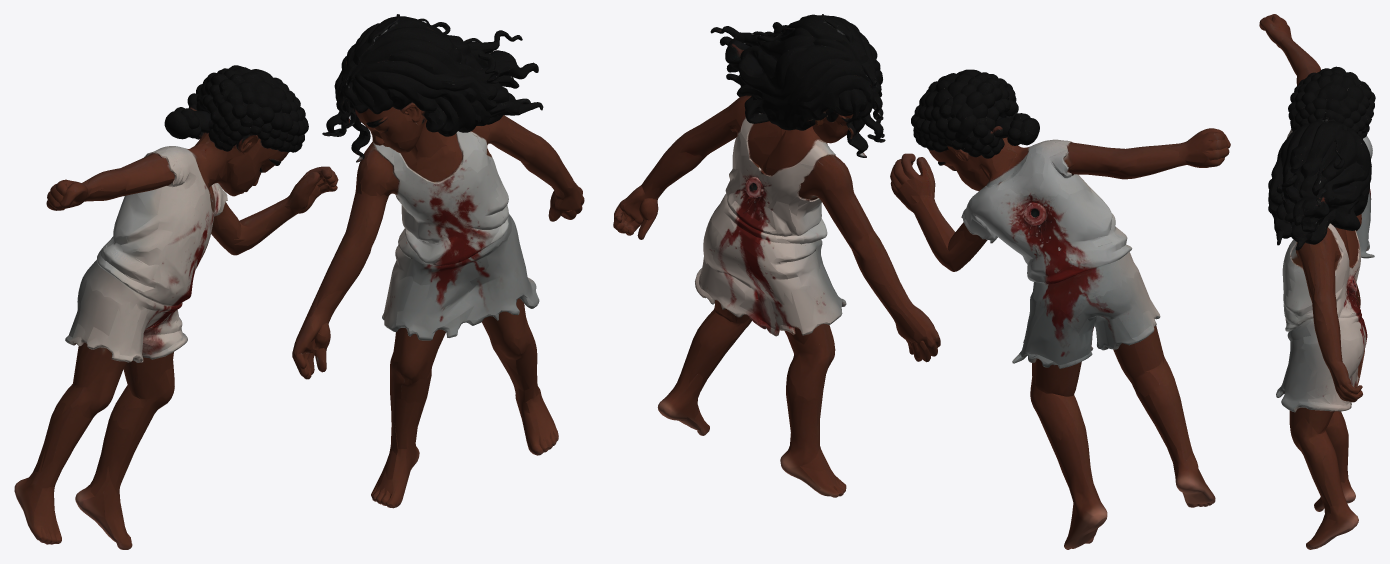
The model's file is sister.glb.
3 renders of one model, left to right at view 1: azimuth 30°, elevation 25°; view 2: azimuth 150°, elevation 25°; view 3: azimuth 270°, elevation 25°, orthographic. The views are drawn at different scales.
Size of the model in its own units: 1.9 by 1.52 by 0.4036.
Materials: 1 (1 with a texture image).
